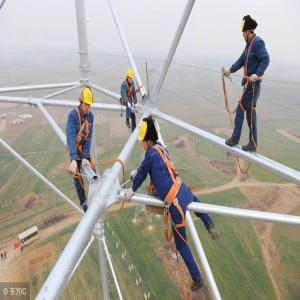yellow: (137, 117, 161, 152), (78, 86, 94, 116), (242, 16, 256, 45), (126, 69, 135, 86)
